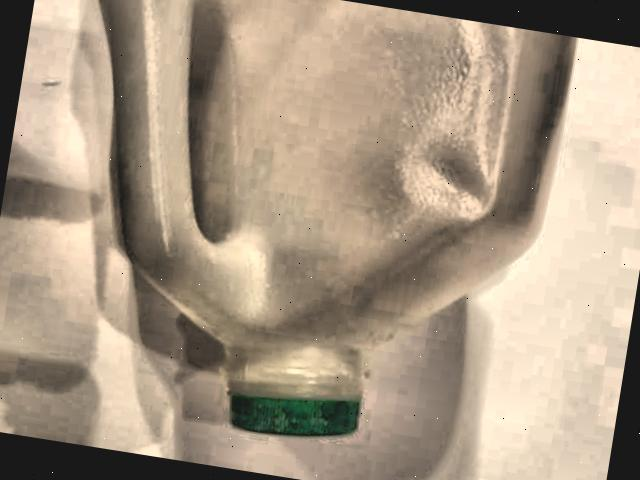Plastic: (12, 0, 592, 480)
